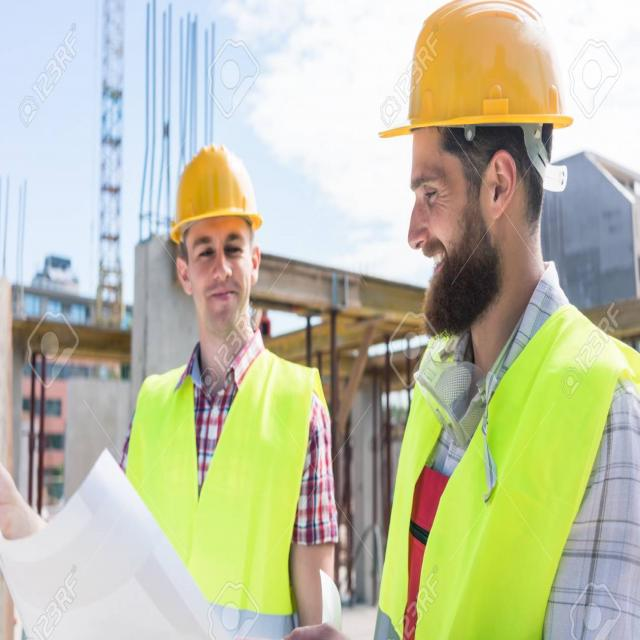Reflective-Jacket: (376, 308, 638, 636), (126, 344, 330, 634)
Safety-Helmet: (380, 1, 574, 152), (165, 136, 266, 245)
